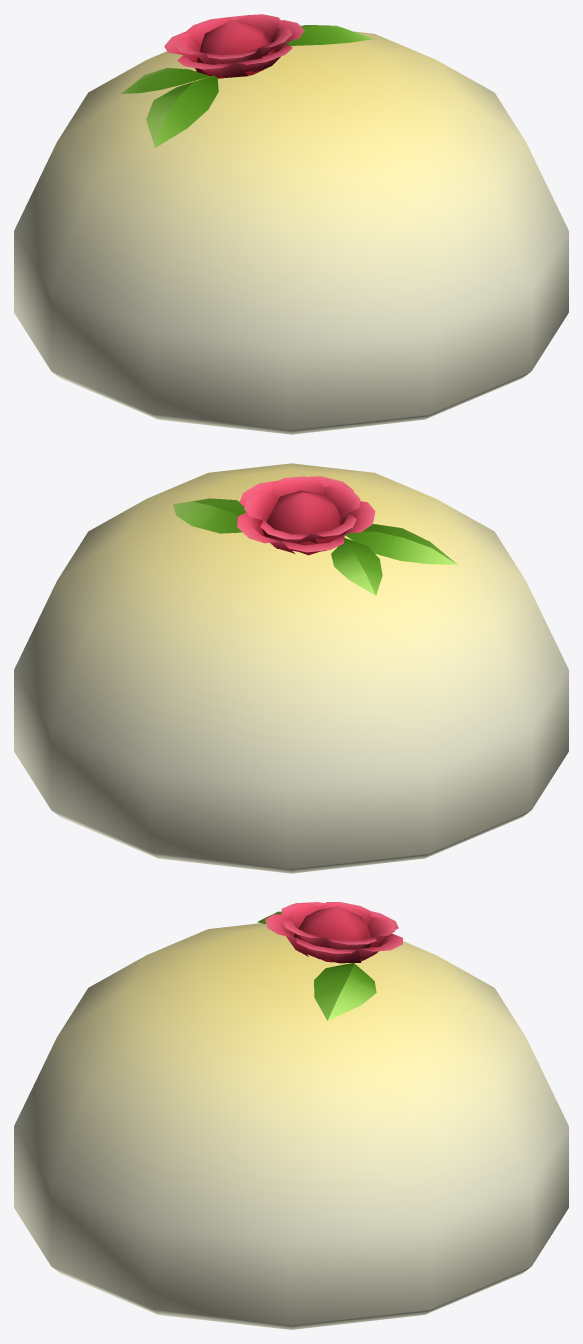
The model's file is m_PrincessCake04.fbx.
3 renders of one model, top to bottom at view 1: azimuth 30°, elevation 25°; view 2: azimuth 150°, elevation 25°; view 3: azimuth 270°, elevation 25°, orthographic.
Parts seen in each view (by area): view 1: m_PrincessCake04; view 2: m_PrincessCake04; view 3: m_PrincessCake04.
Part boxes in pixels (x1=…): m_PrincessCake04: x1=14, y1=14, x2=568, y2=434; m_PrincessCake04: x1=14, y1=463, x2=568, y2=873; m_PrincessCake04: x1=14, y1=902, x2=568, y2=1329.
Bounding box in the file's own units: 28 × 16.33 × 28.
